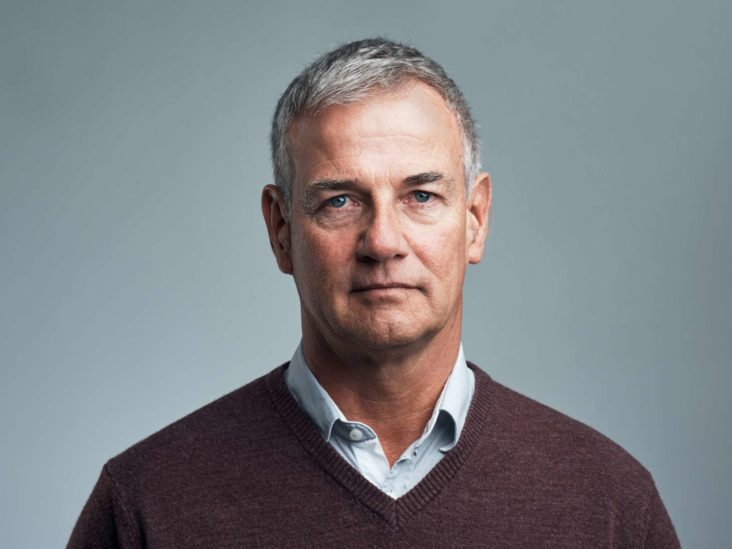bare: (289, 226, 470, 346)
